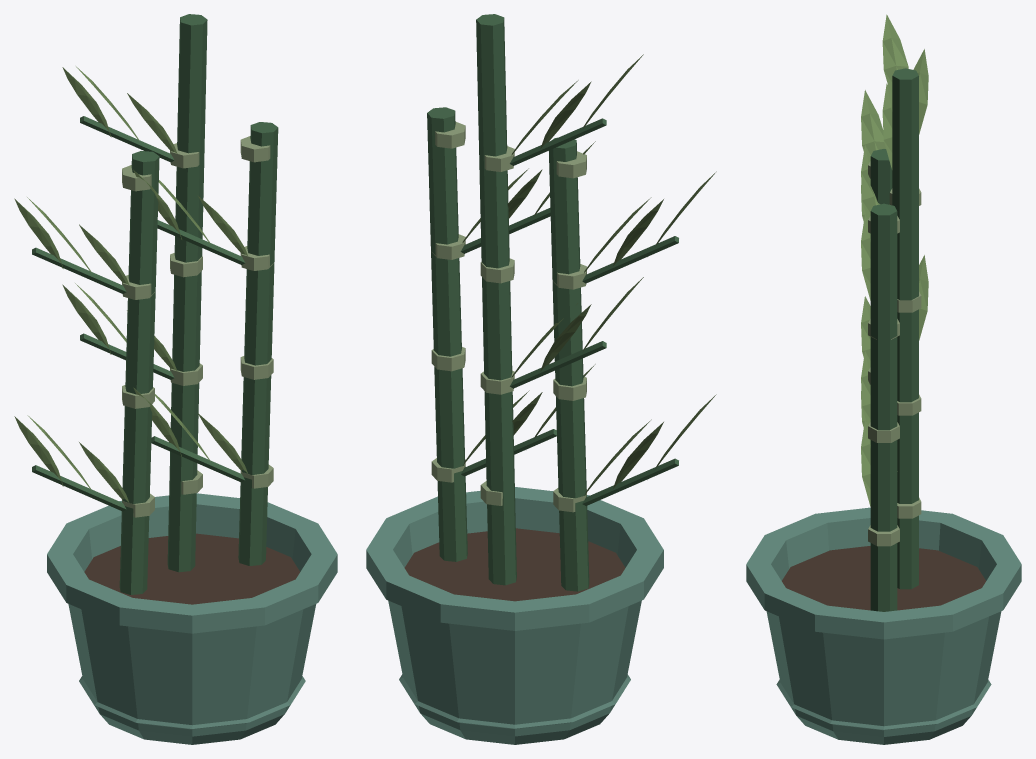
The model's file is decor_pot_bamboo.glb.
3 renders of one model, left to right at view 1: azimuth 30°, elevation 25°; view 2: azimuth 150°, elevation 25°; view 3: azimuth 270°, elevation 25°, orthographic. The views are drawn at different scales.
Parts seen in each view (by area): view 1: geometry; view 2: geometry; view 3: geometry.
Boxes of the visible parts, x1,y1,x2,y2 form: geometry: (14,14,337,744); geometry: (366,14,716,744); geometry: (746,14,1021,744).
Size of the model in its own units: 0.6344 by 1.3 by 0.5088.
